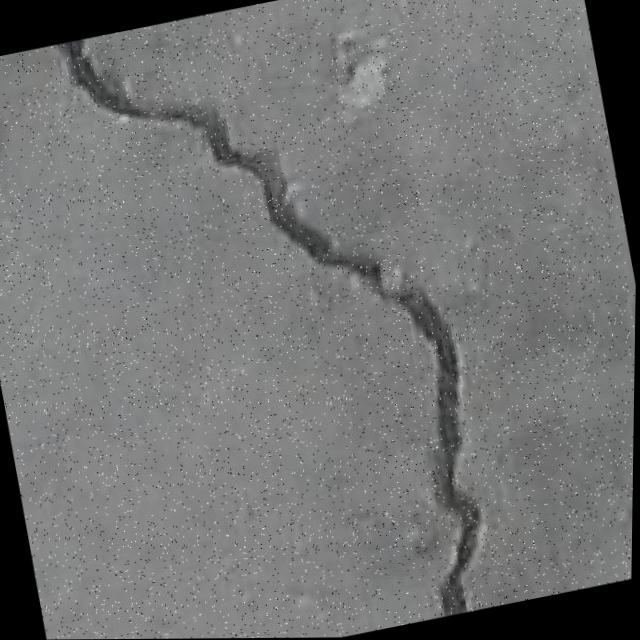Crack: (41, 0, 535, 640)
